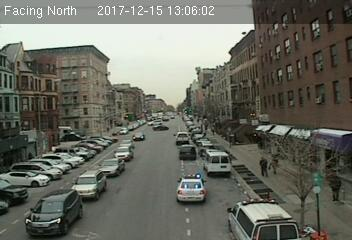car: (24, 188, 82, 236), (72, 169, 106, 200), (98, 158, 125, 176), (177, 144, 197, 161), (114, 146, 134, 158), (173, 131, 191, 144), (132, 132, 145, 139)
pedestrian: (258, 154, 269, 178), (270, 156, 279, 175)
police: (226, 196, 304, 240), (176, 174, 208, 204)
truck: (203, 151, 231, 176)
